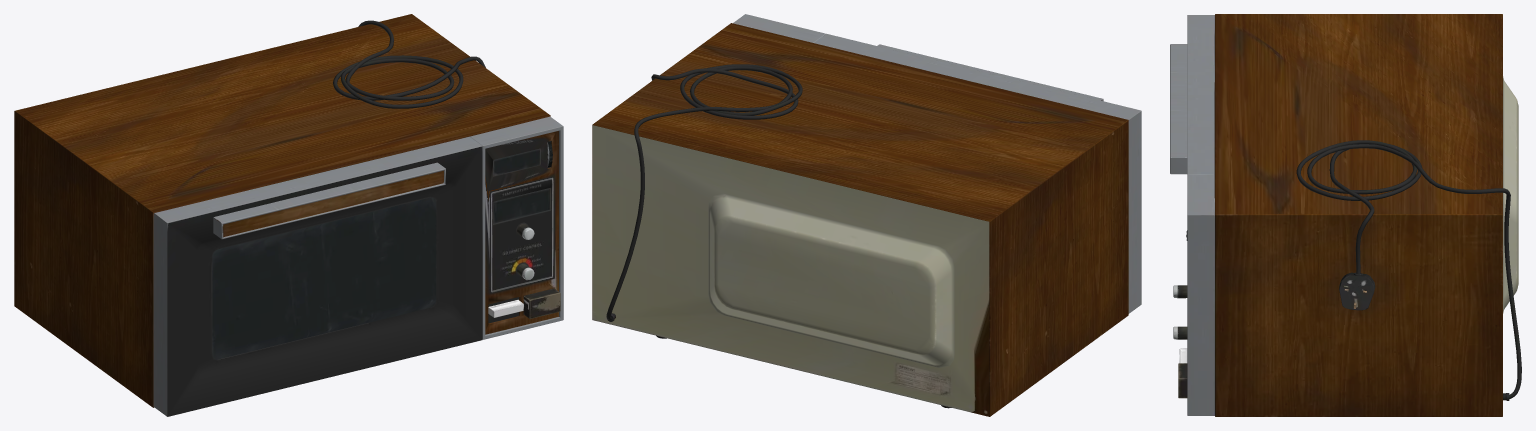
Rendered from vintage-microwave.glb.
3 renders of one model, left to right at view 1: azimuth 30°, elevation 25°; view 2: azimuth 150°, elevation 25°; view 3: azimuth 270°, elevation 25°, orthographic. The views are drawn at different scales.
Parts seen in each view (by area): view 1: vintage_microwave; view 2: vintage_microwave; view 3: vintage_microwave.
Part boxes in pixels (left/top/right/bottom): vintage_microwave: left=14, top=14, right=563, bottom=416; vintage_microwave: left=592, top=14, right=1141, bottom=416; vintage_microwave: left=1170, top=14, right=1521, bottom=416.
Bounding box in the file's own units: 1.07 × 0.5257 × 0.7453.
2 materials, 2 textured.
